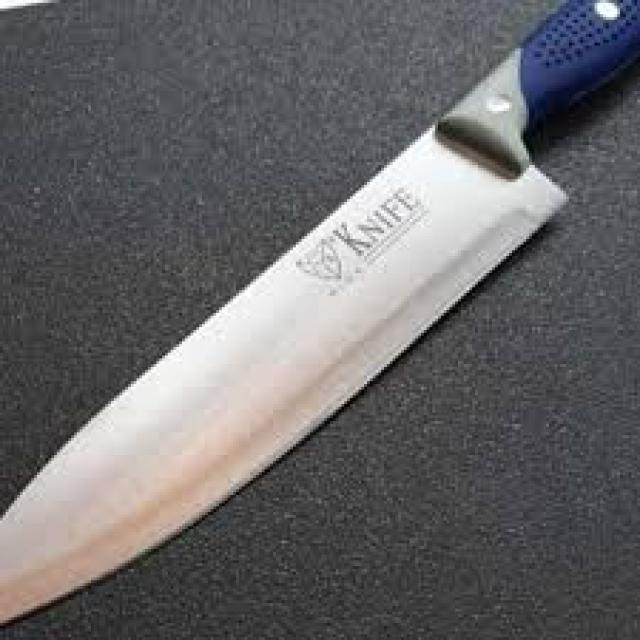Knife: (0, 0, 637, 623)
